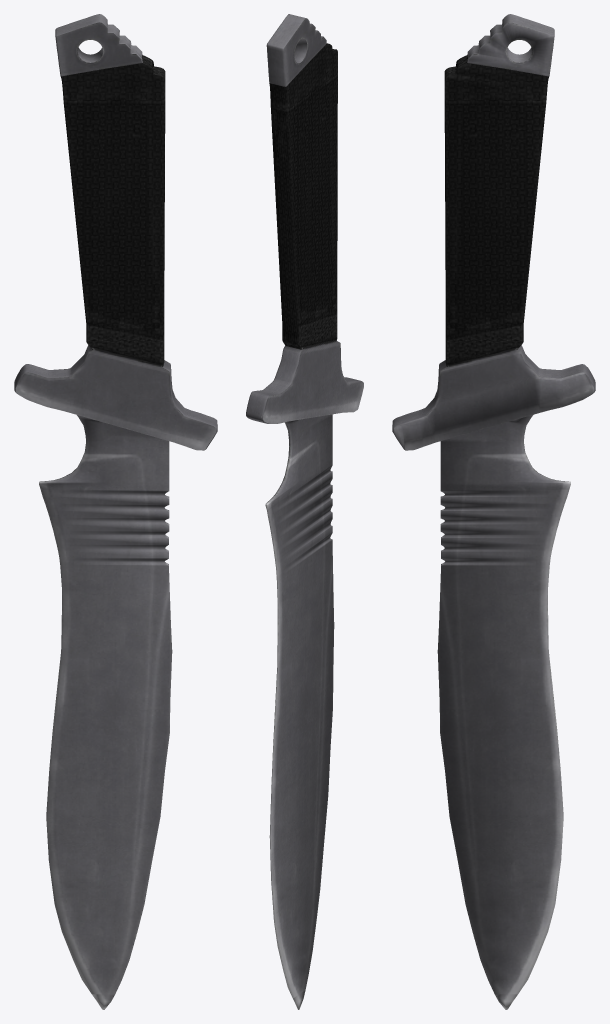
File: cannon.obj
3 views of the same model, side by side, from view 1: azimuth 90°, elevation 25°; view 2: azimuth 150°, elevation 25°; view 3: azimuth 270°, elevation 25° (orthographic).
Parts seen in each view (by area): view 1: knife; view 2: knife; view 3: knife.
Boxes of the visible parts, bbox=[...] form: knife: bbox=[14, 14, 217, 1009]; knife: bbox=[246, 14, 363, 1009]; knife: bbox=[392, 14, 595, 1009].
Size of the model in its own units: 0.1496 by 8.2 by 1.52.
